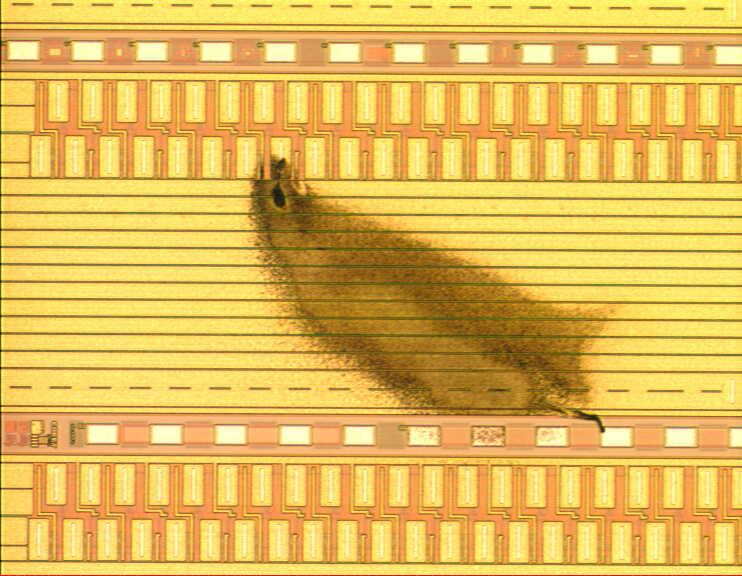BLOCK ETCH: (249, 152, 625, 441)
